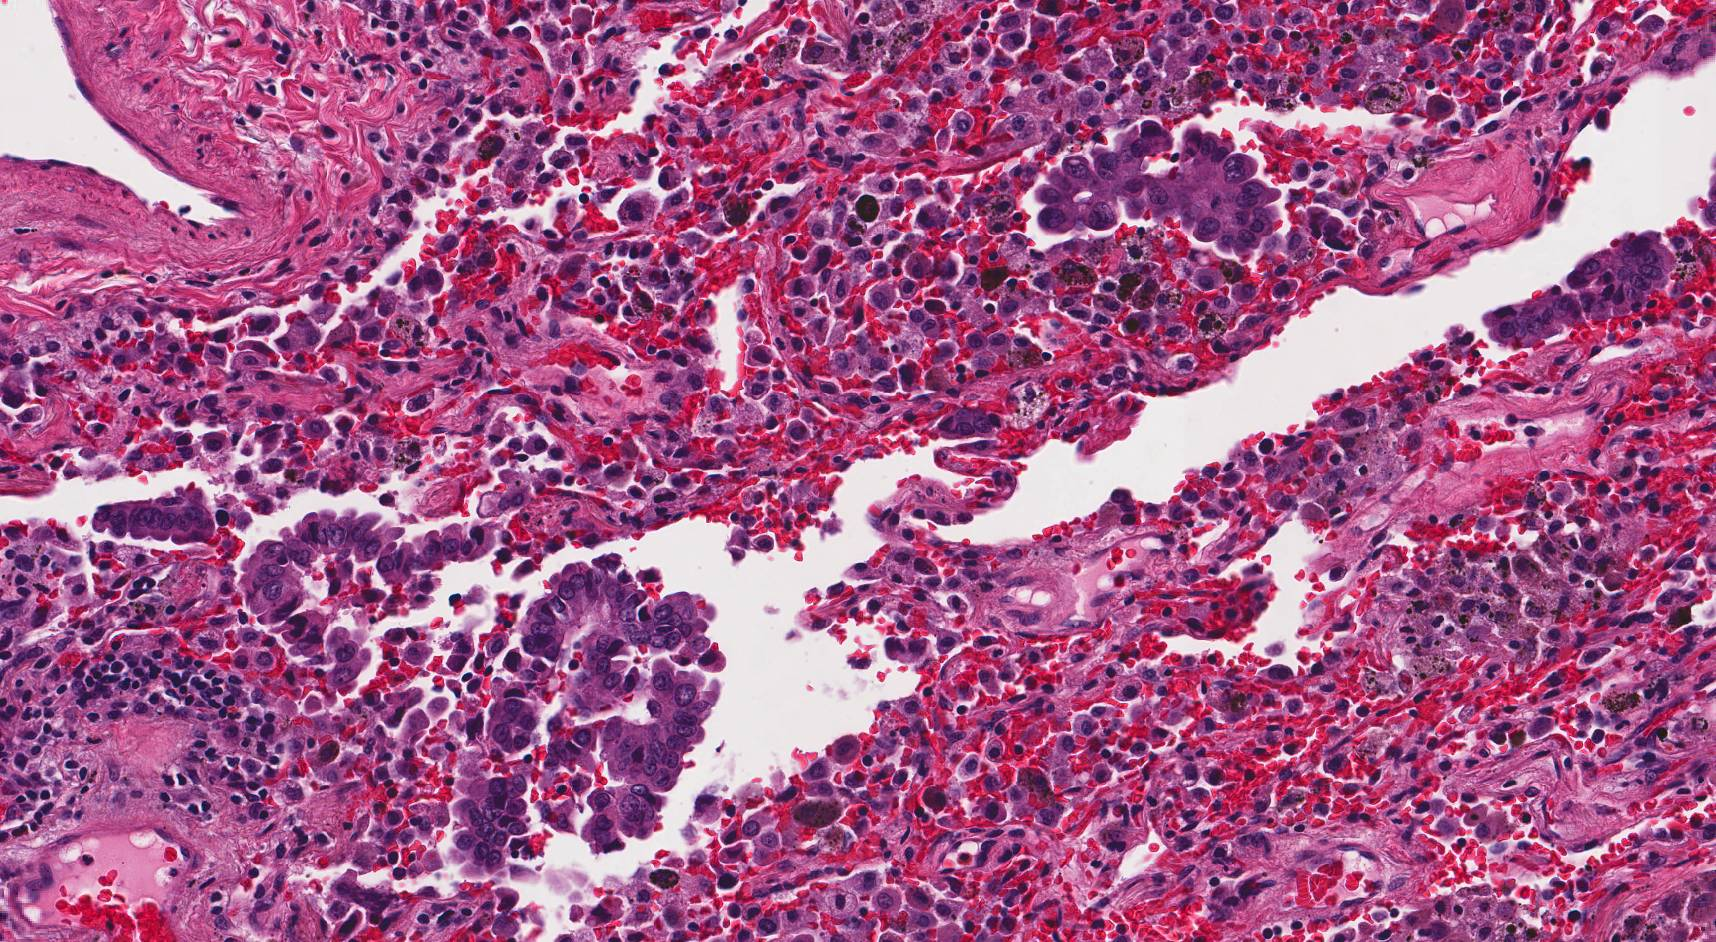stas: (450, 557, 727, 874), (242, 511, 489, 682), (1031, 118, 1280, 249), (1483, 226, 1677, 346), (89, 492, 218, 544)
